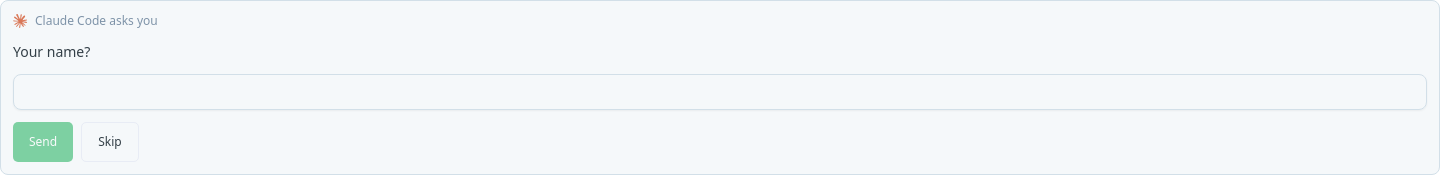
Test: QuestionCard › can't send until a required field has an answer
Expected: the button "Send" is disabled, [13,122,73,162]
In the field named "Name": (720, 92) [13,74,1427,110], type "Budi"
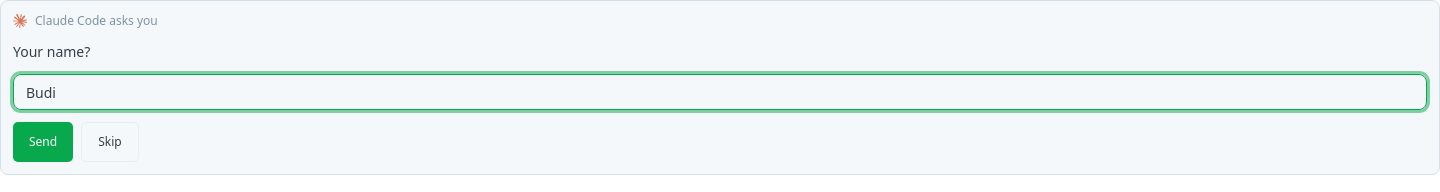
Now the button "Send" is enabled, box [13,122,73,162]
